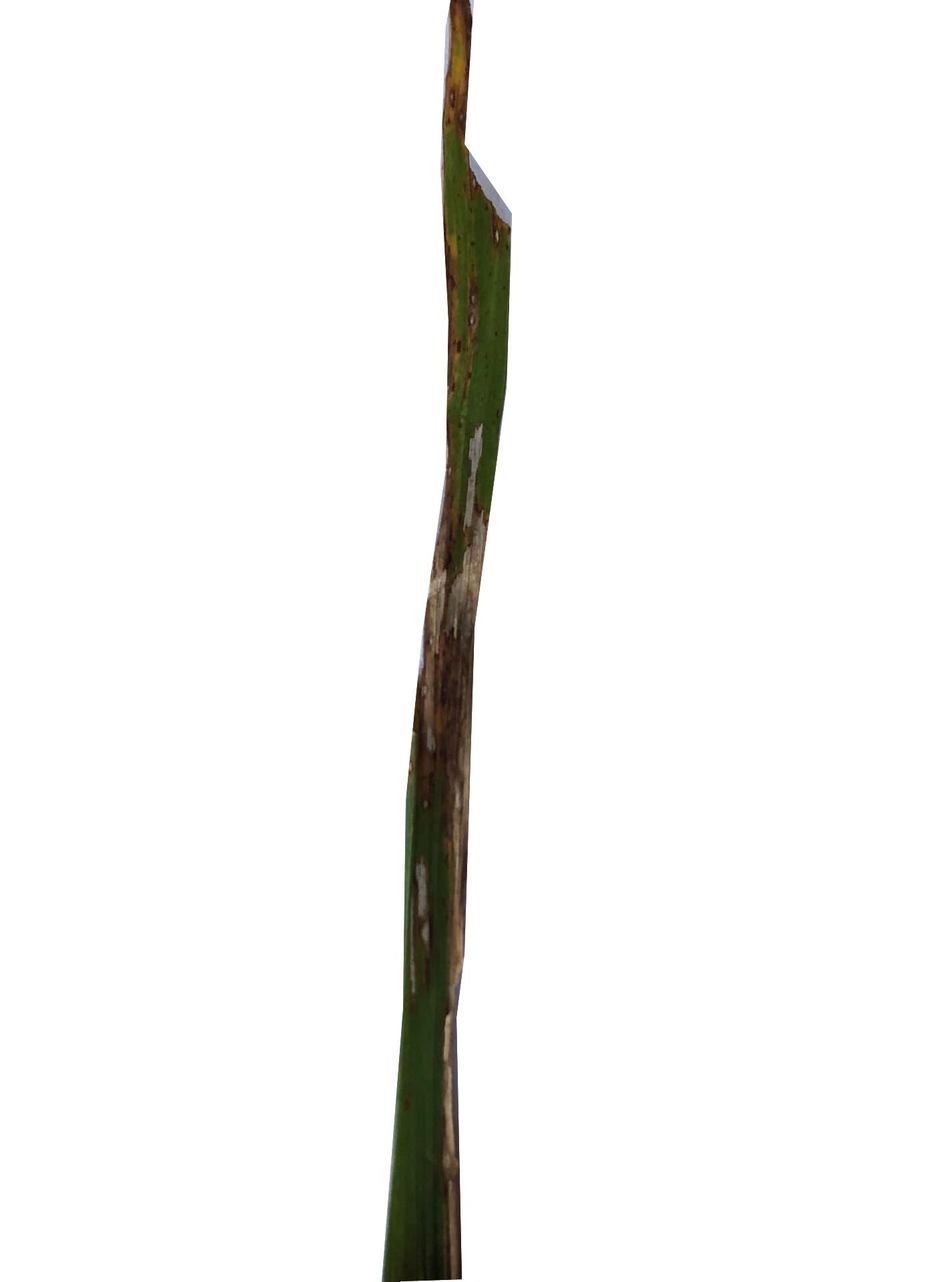Blight: (430, 841, 474, 1282), (434, 487, 487, 838), (444, 13, 474, 461)
